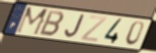0: (123, 20, 145, 47)
4: (102, 17, 124, 46)
B: (38, 9, 66, 37)
J: (63, 13, 86, 39)
M: (14, 6, 51, 37)
Z: (79, 15, 108, 44)
